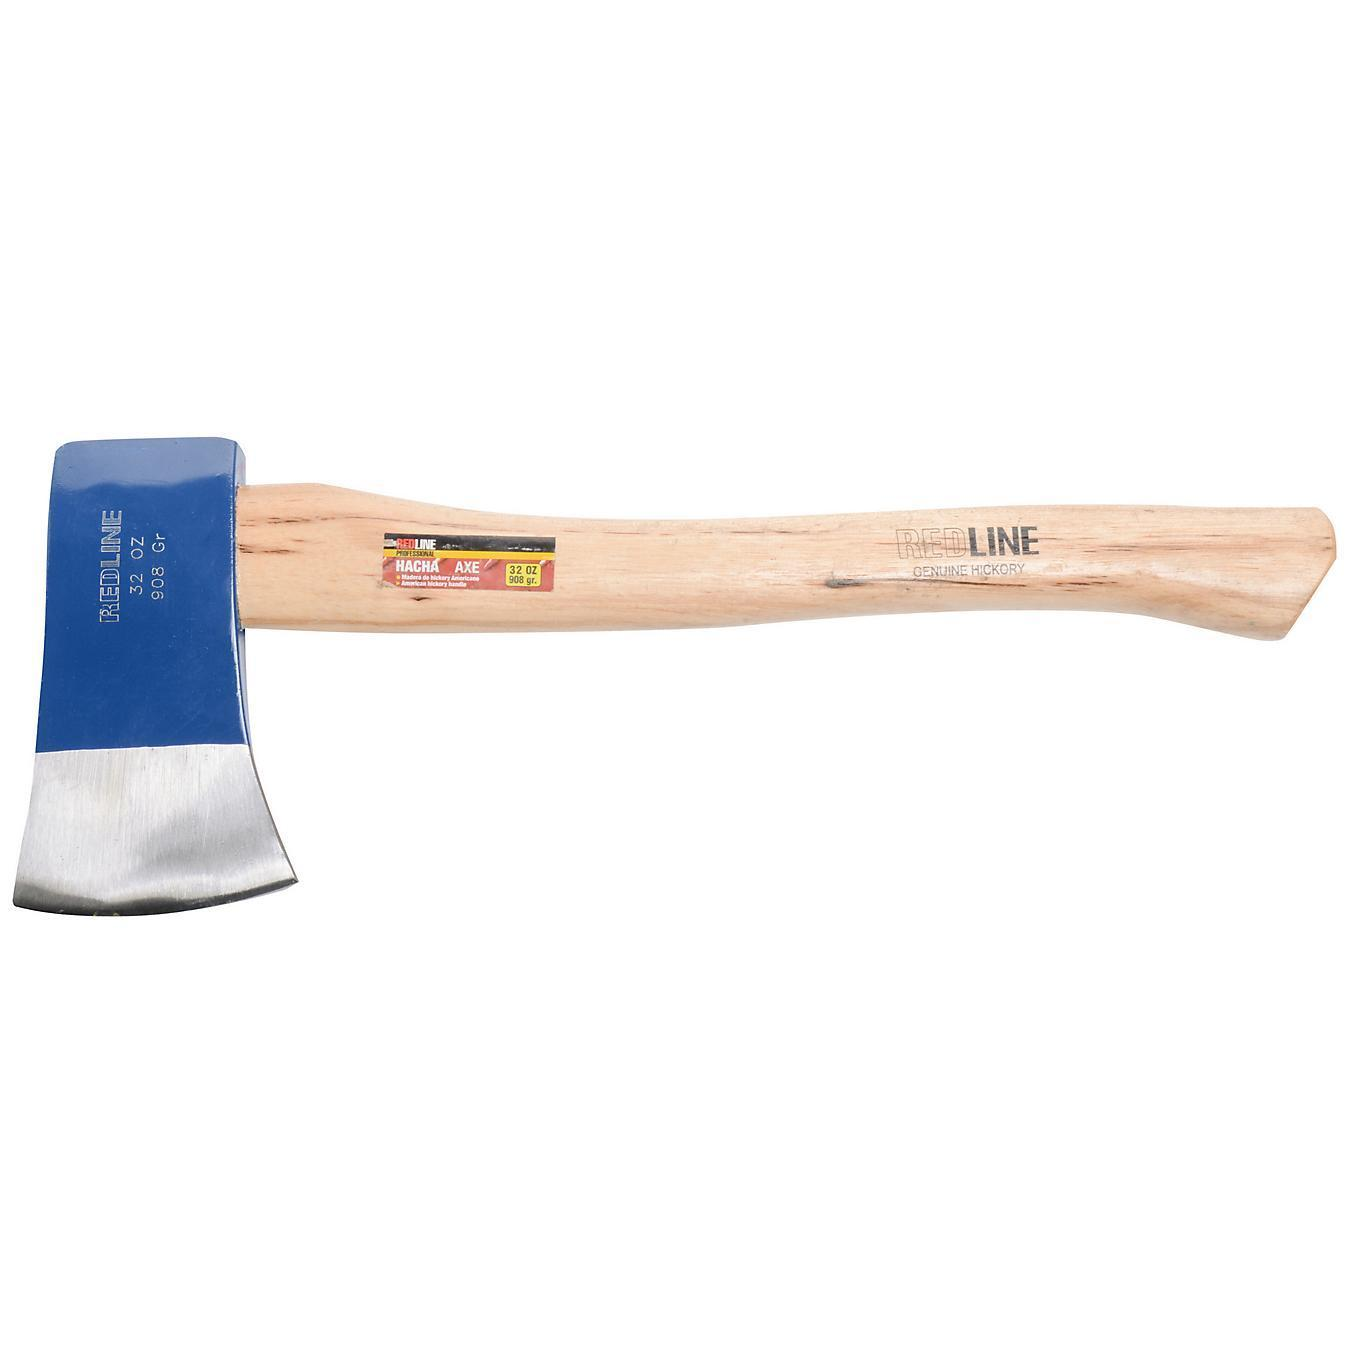machado: (14, 439, 1334, 914)
